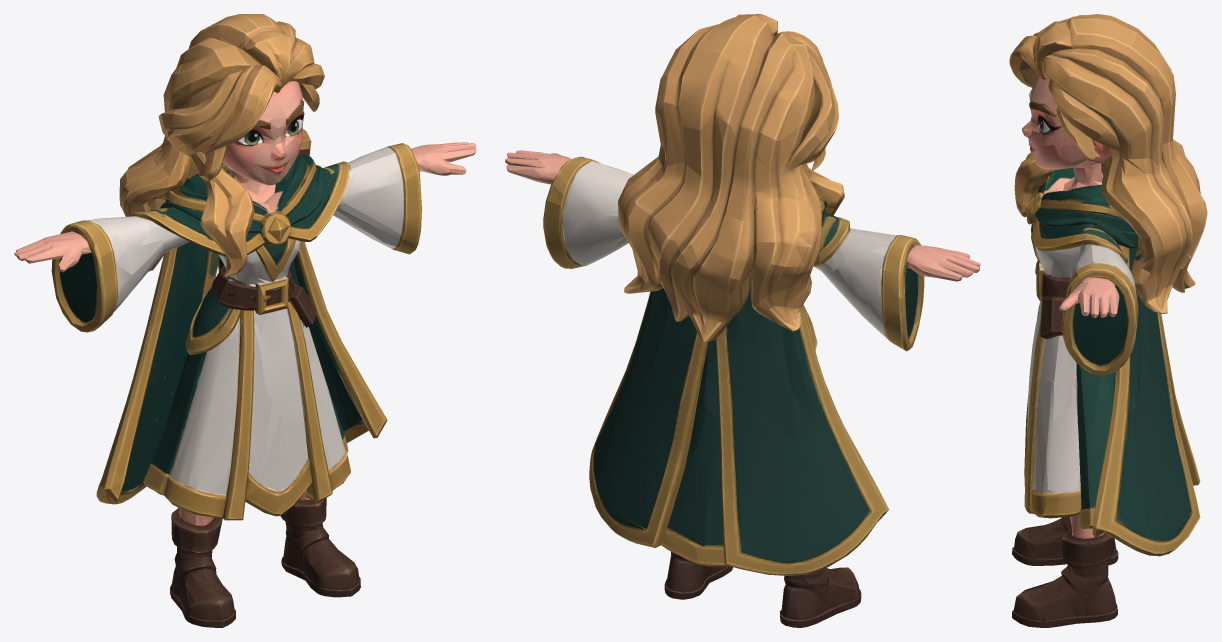
File: kessa_textured_unrigged.glb
The picture shows the model from 3 angles, left to right: view 1: azimuth 30°, elevation 25°; view 2: azimuth 150°, elevation 25°; view 3: azimuth 270°, elevation 25°; orthographic projection. The views are drawn at different scales.
Visible parts, largest first — view 1: output_unwrapped; view 2: output_unwrapped; view 3: output_unwrapped.
Boxes of the visible parts, x1,y1,x2,y2 form: output_unwrapped: (14, 14, 476, 627); output_unwrapped: (505, 14, 980, 627); output_unwrapped: (1009, 14, 1207, 627).
Size of the model in its own units: 1.62 by 1.9 by 0.6006.
Materials: 1 (1 with a texture image).
